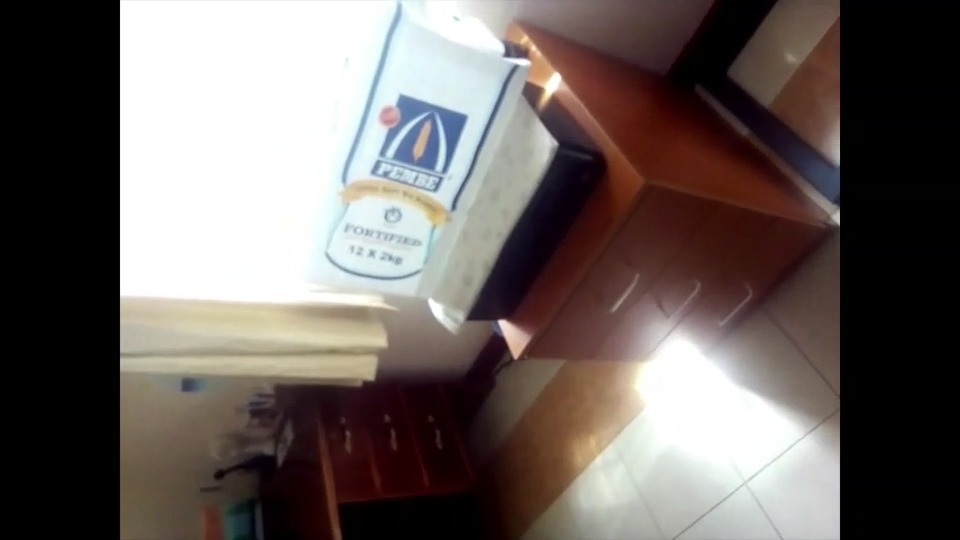wheat_flour_blue_label: (306, 5, 524, 315)
